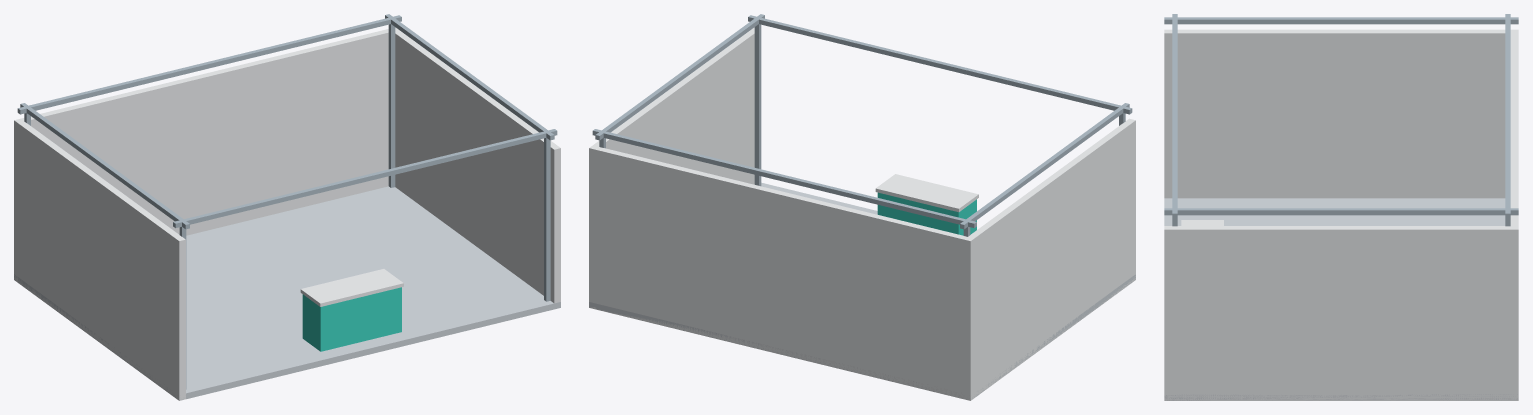
3 renders of one model, left to right at view 1: azimuth 30°, elevation 25°; view 2: azimuth 150°, elevation 25°; view 3: azimuth 270°, elevation 25°, orthographic. The views are drawn at different scales.
Parts seen in each view (by area): view 1: Exhibition Booth Concept; view 2: Exhibition Booth Concept; view 3: Exhibition Booth Concept.
Part boxes in pixels (bbox=[...]): Exhibition Booth Concept: bbox=[14, 14, 560, 400]; Exhibition Booth Concept: bbox=[589, 14, 1135, 400]; Exhibition Booth Concept: bbox=[1164, 14, 1518, 400].
Size of the model in its own units: 8 by 3.49 by 6.
